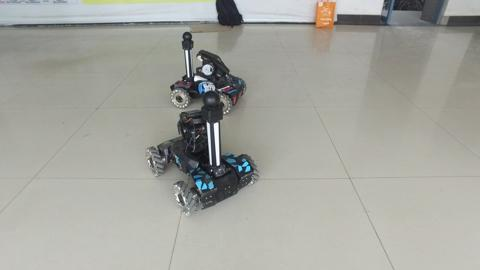chariot: (144, 115, 261, 220), (171, 35, 248, 114)
